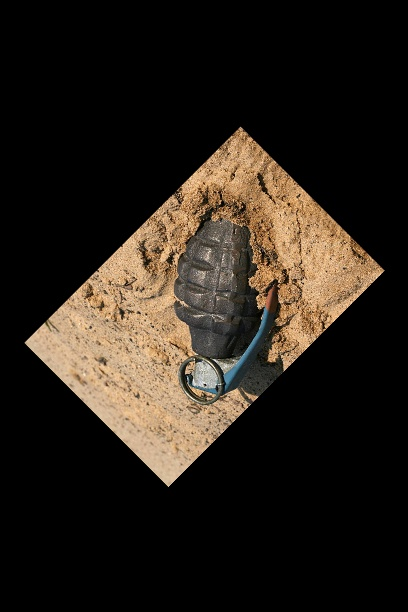e1: (174, 212, 274, 414)
